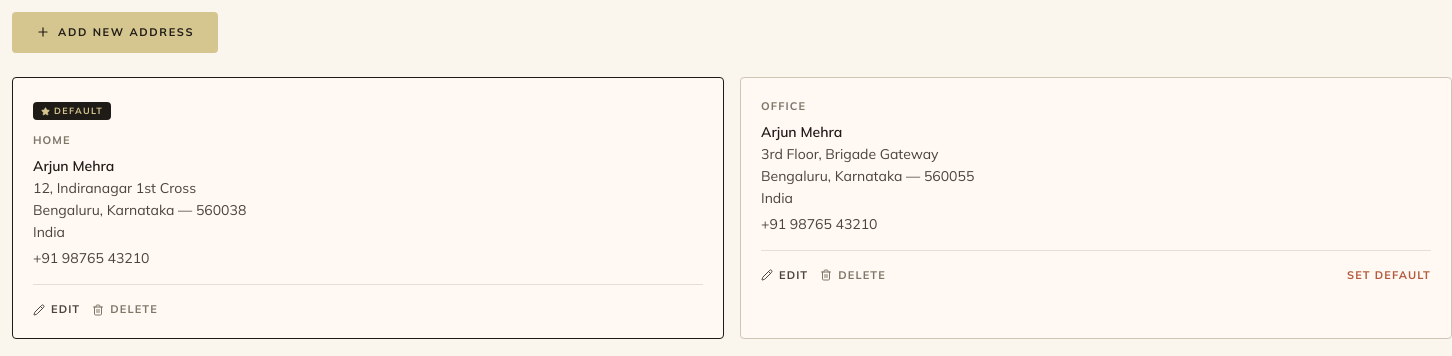
Test: AddressBook › removes an address when Delete is clicked
Click the button with test id "delete-address-addr_02": coordinates (853, 275) [820,267,886,284]
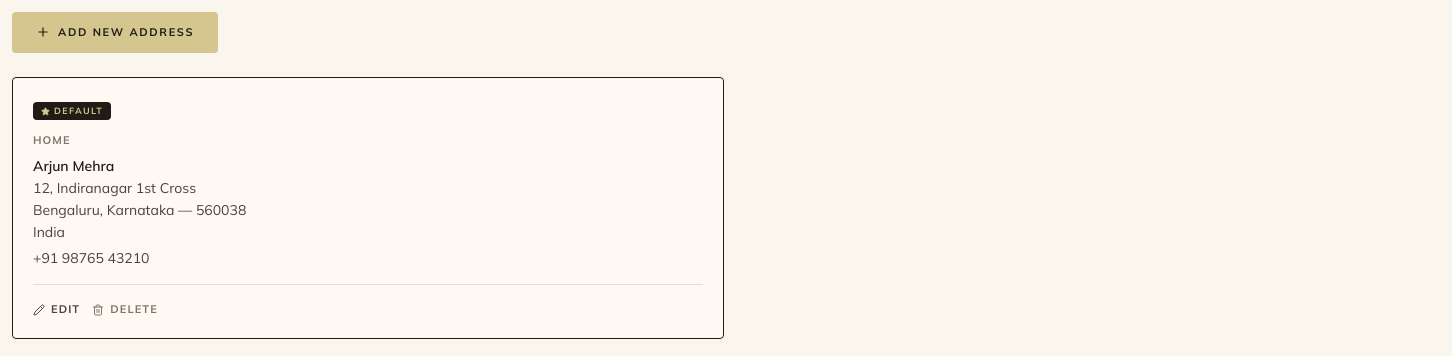
Expected: the list item with test id "address-card-addr_01" is shown, [12,76,724,339]
Result: the list item with test id "address-card-addr_02" is gone
